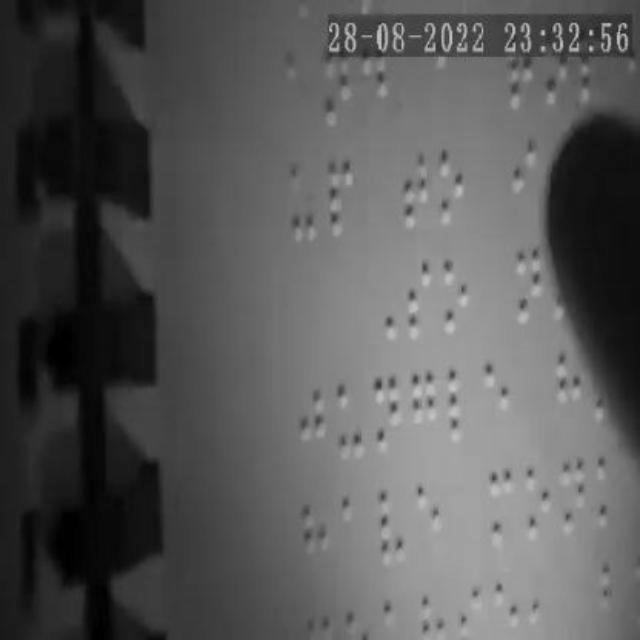braiile: (398, 255, 438, 347), (443, 360, 481, 450), (373, 479, 411, 569), (438, 252, 474, 346), (326, 156, 362, 248), (520, 458, 556, 550), (296, 373, 332, 465), (557, 454, 593, 544), (366, 362, 402, 452), (298, 492, 334, 582), (510, 242, 546, 331), (552, 342, 588, 431), (438, 146, 472, 240), (288, 156, 322, 248), (487, 464, 519, 554), (338, 483, 370, 572), (396, 152, 429, 238), (416, 478, 448, 566), (318, 51, 352, 132), (598, 456, 630, 540), (483, 359, 513, 445)
